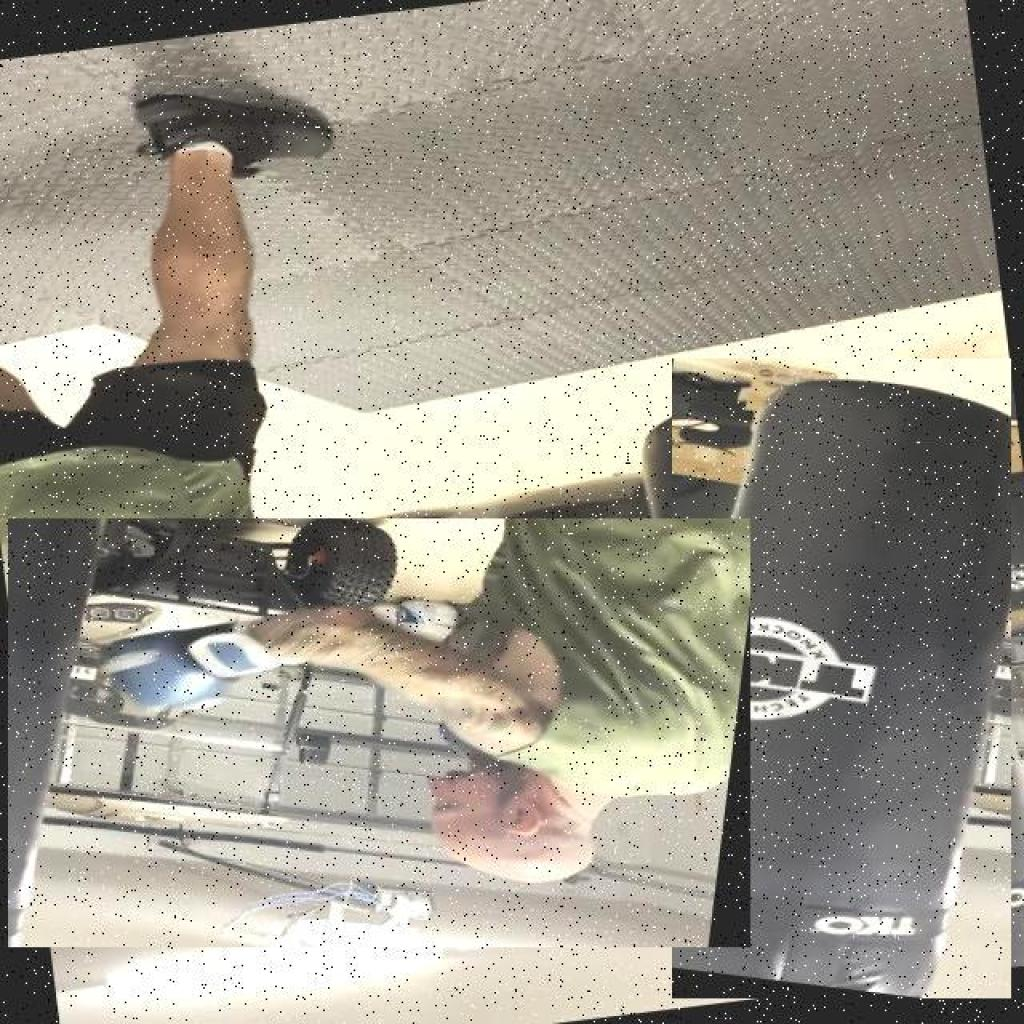bag: (672, 358, 1011, 998)
jab: (8, 518, 750, 948)
